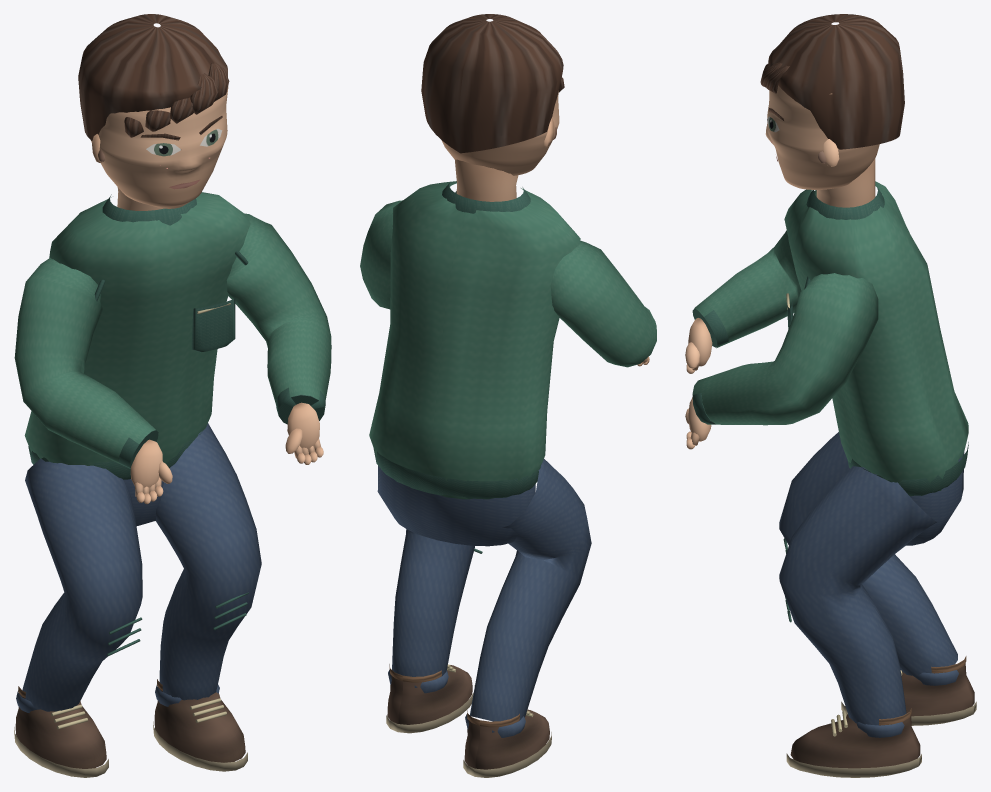
The model's file is HERO-05_vovik-crouched.glb.
3 renders of one model, left to right at view 1: azimuth 30°, elevation 25°; view 2: azimuth 150°, elevation 25°; view 3: azimuth 270°, elevation 25°, orthographic. The views are drawn at different scales.
Visible parts, largest first — view 1: vovik · soles; view 2: vovik · soles; view 3: vovik · soles.
Boxes of the visible parts, left/top/right/bottom form: vovik · soles: left=14, top=14, right=331, bottom=777; vovik · soles: left=360, top=14, right=656, bottom=777; vovik · soles: left=685, top=14, right=976, bottom=777.
Bounding box in the file's own units: 0.4814 × 1.15 × 0.4216.
2 materials, 2 textured.
